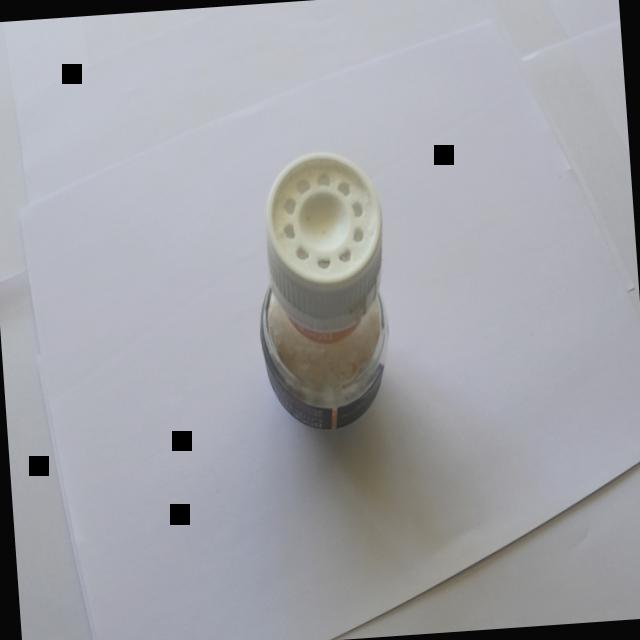Salt: (225, 111, 424, 484)
